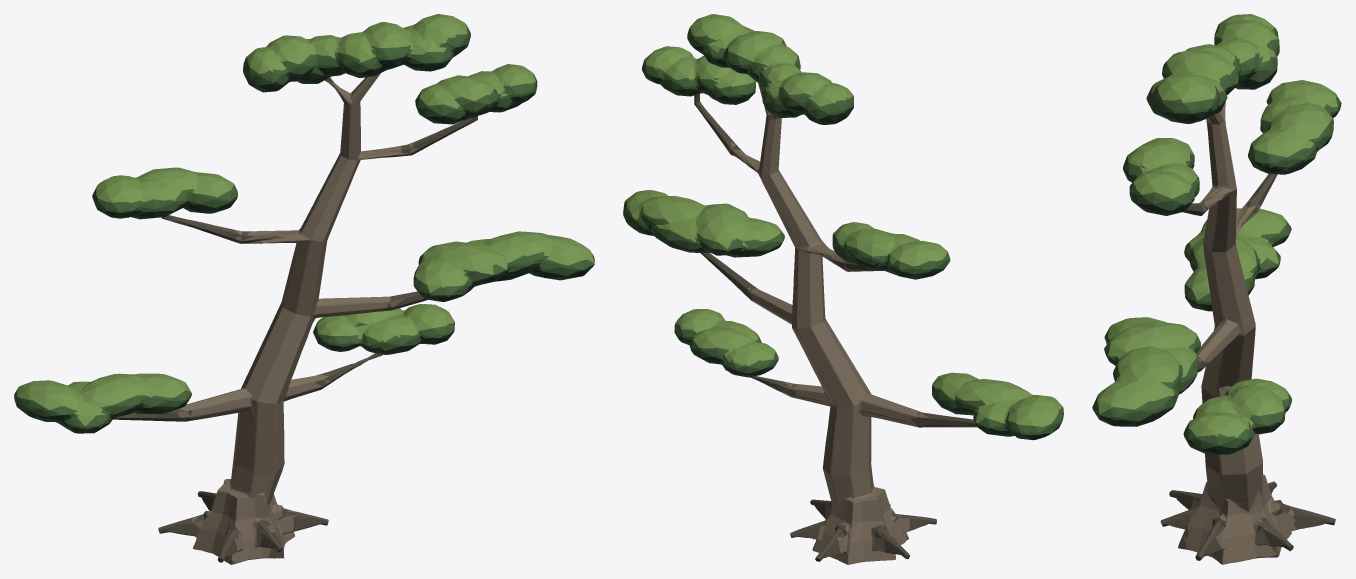
File: ancient-pine-811-v2-lod0.glb
The picture shows the model from 3 angles, left to right: view 1: azimuth 30°, elevation 25°; view 2: azimuth 150°, elevation 25°; view 3: azimuth 270°, elevation 25°; orthographic projection. The views are drawn at different scales.
Parts seen in each view (by area): view 1: n12.002, n8.002, n11.002, n10.002, n9.002; view 2: n12.002, n8.002, n11.002, n9.002, n10.002; view 3: n12.002, n8.002, n11.002, n10.002, n9.002.
Boxes of the visible parts, <box> form: n12.002: <box>16,14,594,425</box>; n8.002: <box>170,73,419,563</box>; n11.002: <box>14,23,594,429</box>; n10.002: <box>17,45,594,433</box>; n9.002: <box>113,77,480,564</box>; n12.002: <box>625,14,1062,426</box>; n8.002: <box>727,82,928,564</box>; n11.002: <box>623,27,1063,435</box>; n9.002: <box>694,93,977,561</box>; n10.002: <box>624,37,1061,440</box>; n12.002: <box>1097,14,1337,437</box>; n8.002: <box>1183,102,1296,564</box>; n11.002: <box>1092,23,1341,449</box>; n10.002: <box>1093,53,1339,454</box>; n9.002: <box>1160,173,1335,560</box>.
Bounding box in the file's own units: 5.93 × 5.52 × 2.24.
